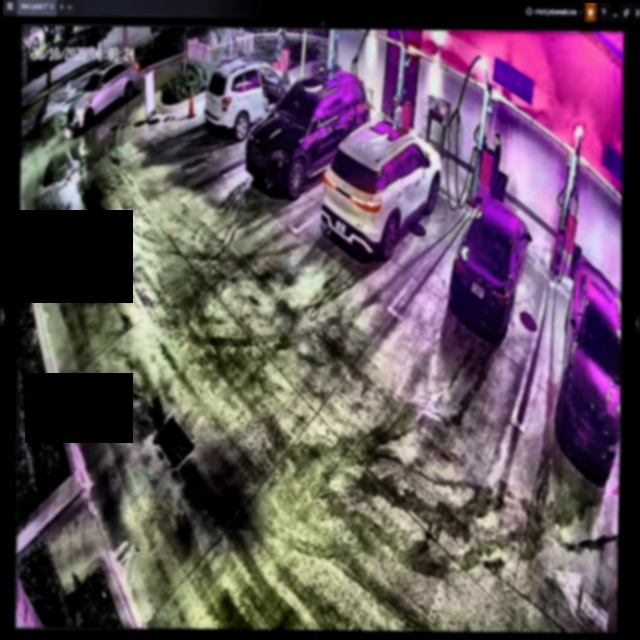Car: (323, 121, 443, 262), (245, 65, 371, 196), (449, 194, 529, 336)
